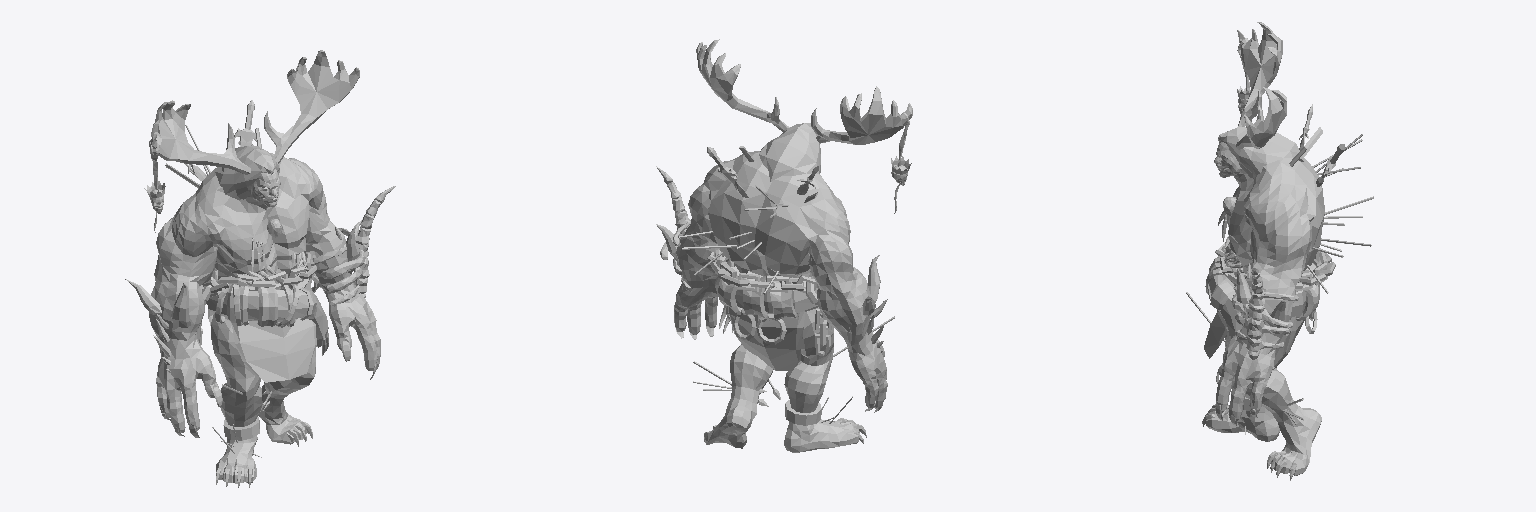
Rendered from walking_000033.obj.
3 renders of one model, left to right at view 1: azimuth 30°, elevation 25°; view 2: azimuth 150°, elevation 25°; view 3: azimuth 270°, elevation 25°, orthographic.
Parts seen in each view (by area): view 1: MAW; view 2: MAW; view 3: MAW.
Boxes of the visible parts, <box> form: MAW: <box>125,50,395,487</box>; MAW: <box>656,39,912,452</box>; MAW: <box>1186,22,1373,480</box>.
Size of the model in its own units: 15.61 by 23.18 by 10.06.